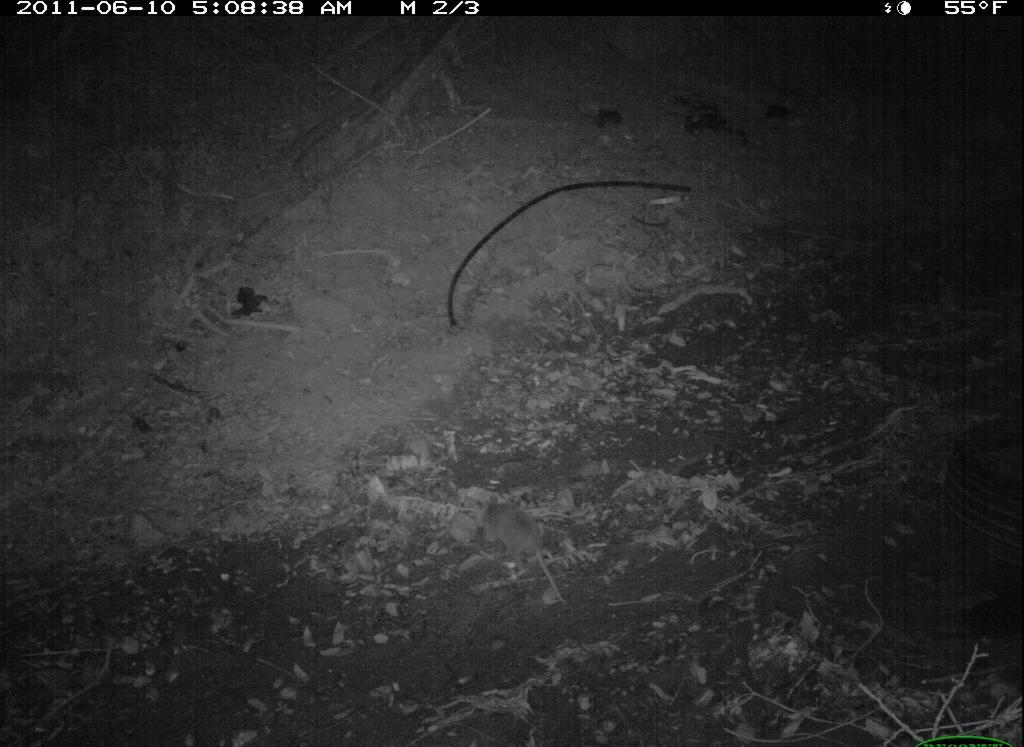opossum: (466, 490, 574, 609)
